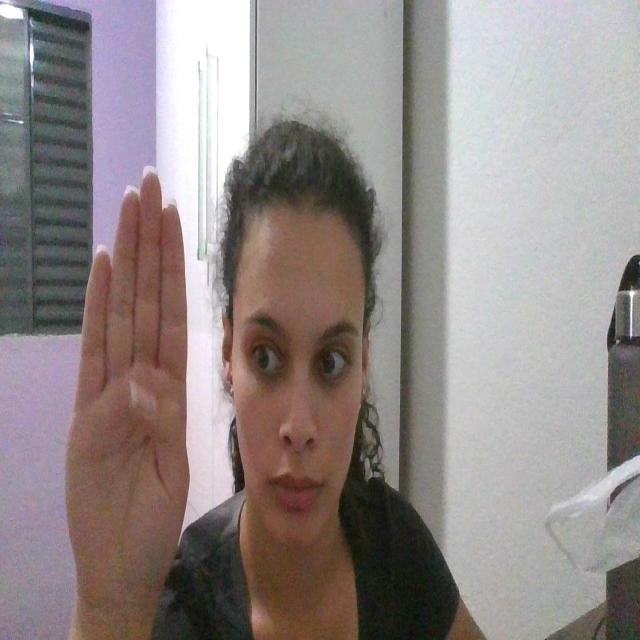B: (62, 153, 196, 603)
